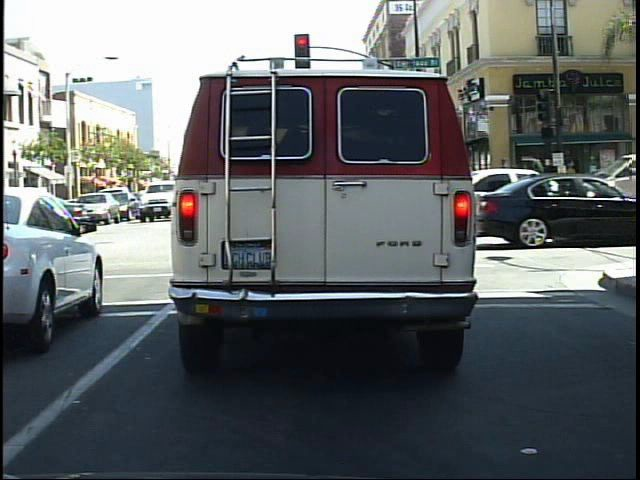person: (536, 154, 564, 218), (516, 157, 541, 213), (496, 155, 515, 212), (507, 162, 526, 212)
